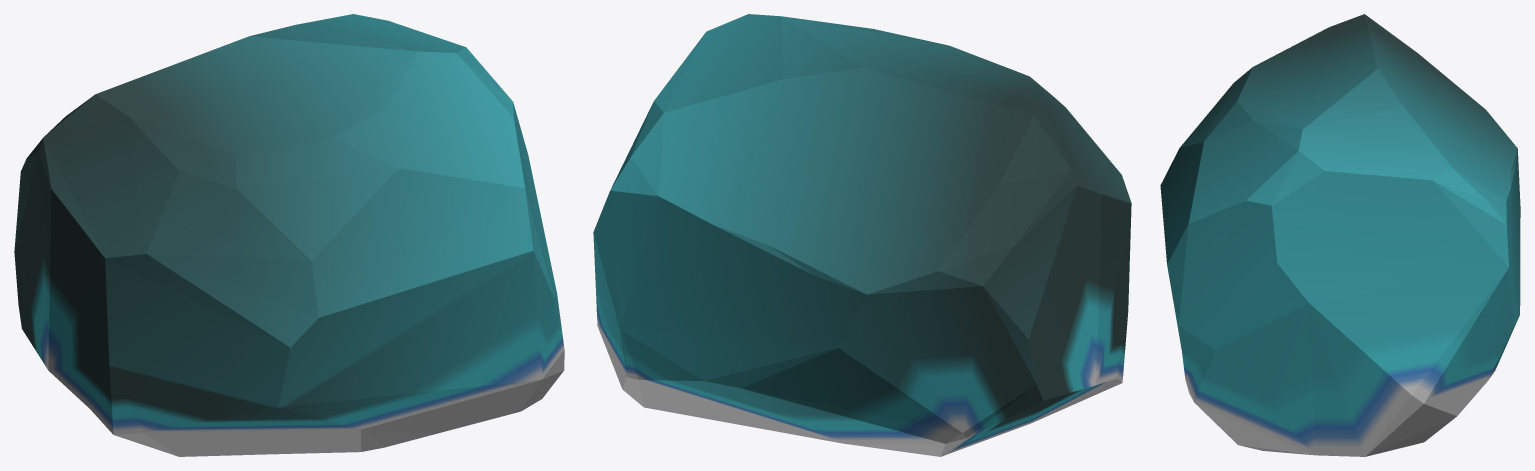
File: SM_Gen_Env_Rock_03.glb
The picture shows the model from 3 angles, left to right: view 1: azimuth 30°, elevation 25°; view 2: azimuth 150°, elevation 25°; view 3: azimuth 270°, elevation 25°; orthographic projection. The views are drawn at different scales.
Visible parts, largest first — view 1: SM_Gen_Env_Rock_03; view 2: SM_Gen_Env_Rock_03; view 3: SM_Gen_Env_Rock_03.
Boxes of the visible parts, <box> form: SM_Gen_Env_Rock_03: <box>14,14,564,456</box>; SM_Gen_Env_Rock_03: <box>593,14,1131,456</box>; SM_Gen_Env_Rock_03: <box>1160,14,1520,456</box>.
Size of the model in its own units: 1.37 by 1.04 by 1.14.
Materials: 1 (1 with a texture image).
